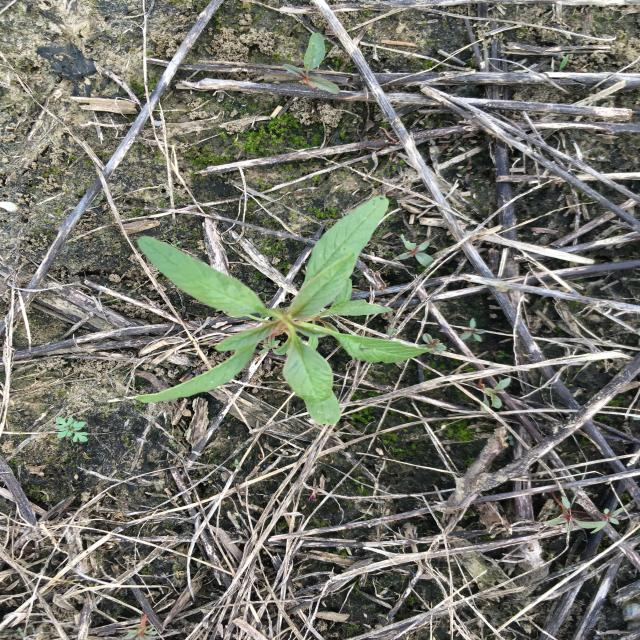Ragweed: (50, 418, 91, 444)
Waterhemp: (131, 194, 435, 428)
